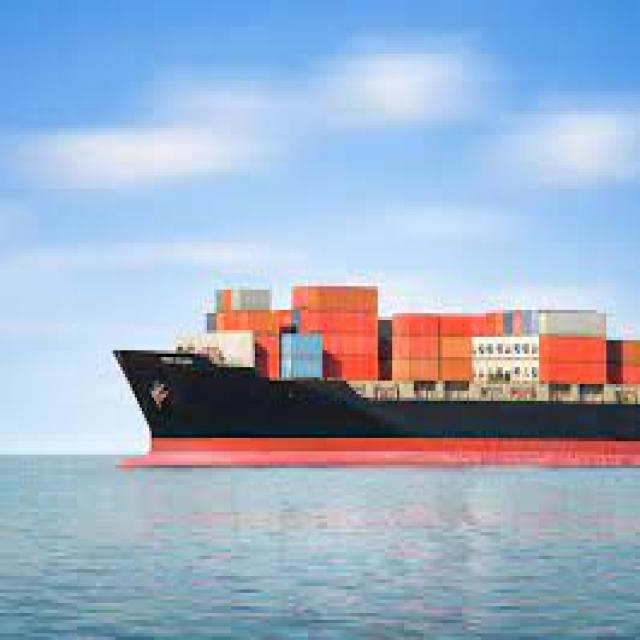cargoship: (110, 259, 640, 474)
